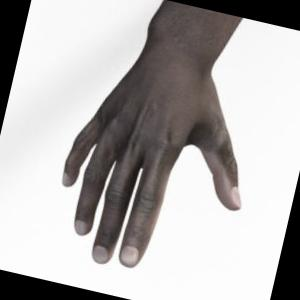paper: (62, 0, 242, 267)
